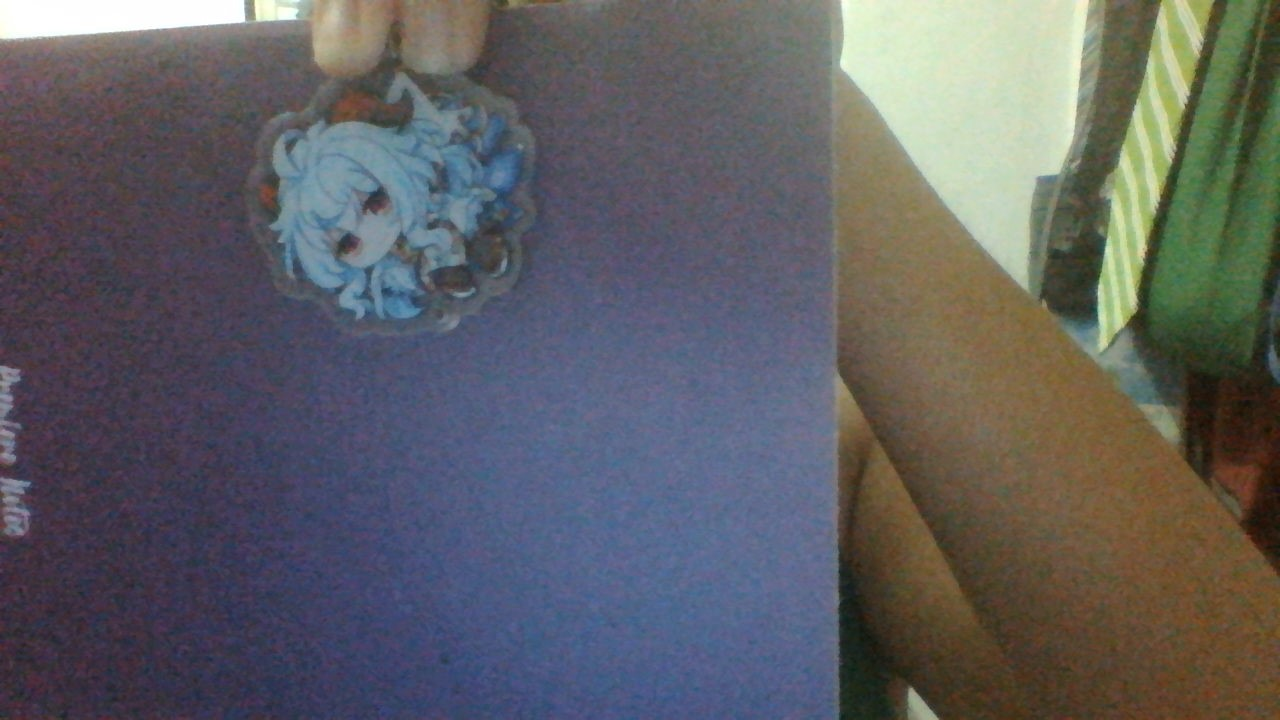Person: (224, 57, 567, 344)
